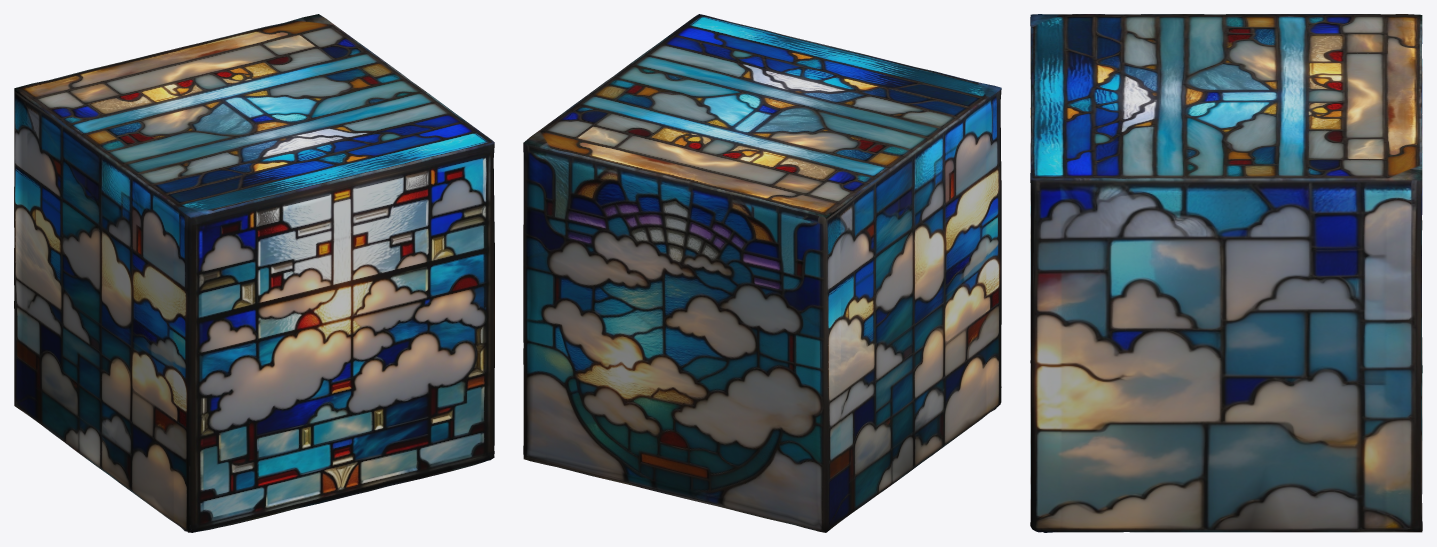
3 renders of one model, left to right at view 1: azimuth 30°, elevation 25°; view 2: azimuth 150°, elevation 25°; view 3: azimuth 270°, elevation 25°, orthographic. The views are drawn at different scales.
Visible parts, largest first — view 1: Mesh_0.002; view 2: Mesh_0.002; view 3: Mesh_0.002.
Boxes of the visible parts, left/top/right/bottom form: Mesh_0.002: left=14, top=14, right=494, bottom=532; Mesh_0.002: left=523, top=14, right=1001, bottom=532; Mesh_0.002: left=1030, top=14, right=1422, bottom=532.
Size of the model in its own units: 1 by 1 by 1.
Materials: 1 (1 with a texture image).
